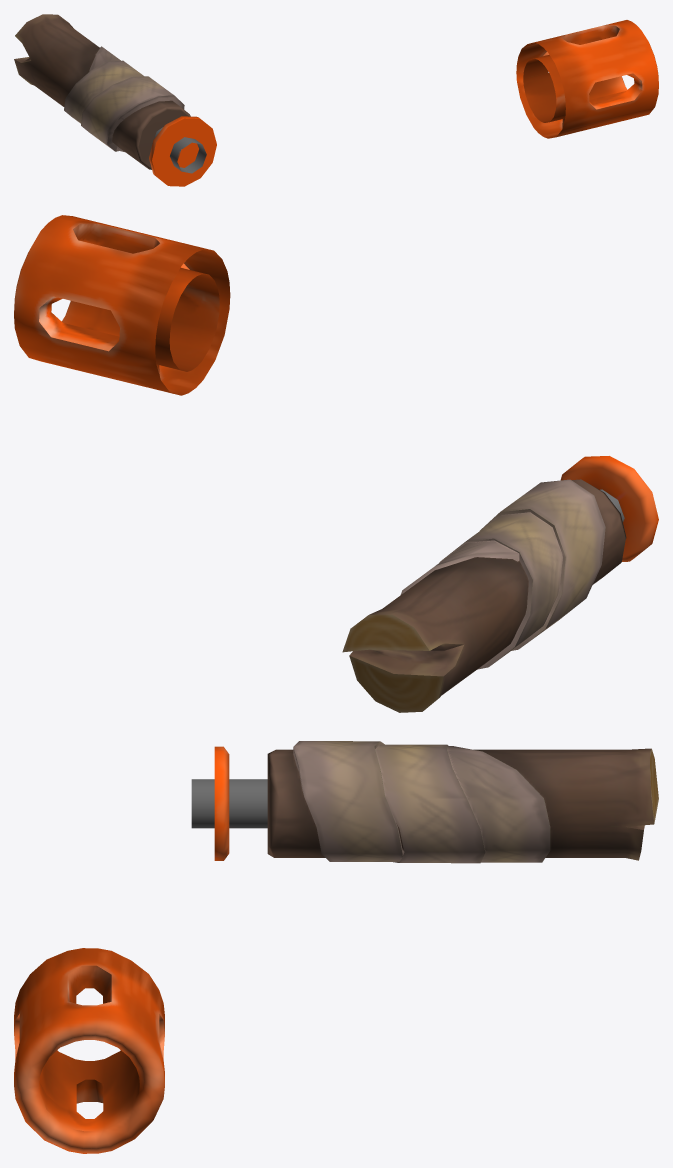
Rendered from Player_GunHandle.fbx.
3 renders of one model, top to bottom at view 1: azimuth 30°, elevation 25°; view 2: azimuth 150°, elevation 25°; view 3: azimuth 270°, elevation 25°, orthographic. The views are drawn at different scales.
Parts seen in each view (by area): view 1: GunModeHandle, ModeMuzzleBreak; view 2: GunModeHandle, ModeMuzzleBreak; view 3: GunModeHandle, ModeMuzzleBreak.
Part boxes in pixels (x1,y1,x2,y2): GunModeHandle: (14, 14, 216, 186); ModeMuzzleBreak: (516, 20, 658, 138); GunModeHandle: (342, 456, 658, 712); ModeMuzzleBreak: (14, 215, 230, 395); GunModeHandle: (191, 741, 658, 863); ModeMuzzleBreak: (14, 948, 164, 1153).
Size of the model in its own units: 0.2293 by 0.1873 by 0.0474.
